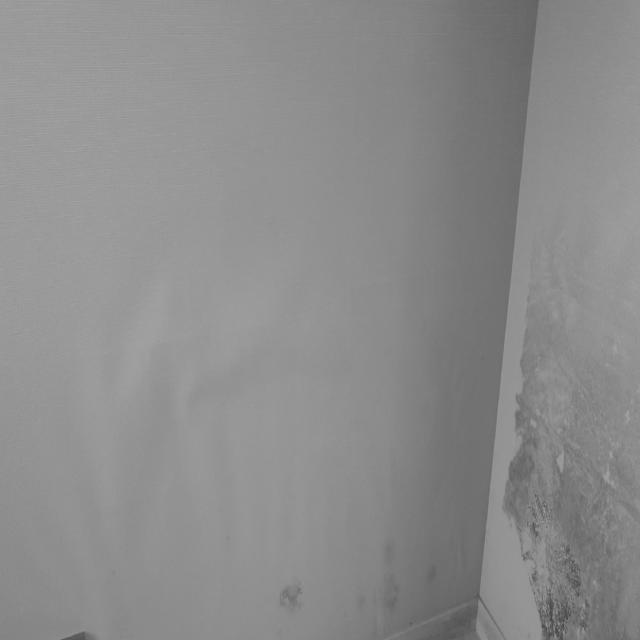stain marks: (503, 229, 639, 637), (277, 511, 479, 623)
